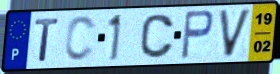1: (106, 13, 123, 62)
C: (62, 14, 98, 64), (139, 12, 176, 60)
P: (179, 8, 216, 61)
T: (34, 17, 61, 63)
V: (217, 7, 254, 60)
